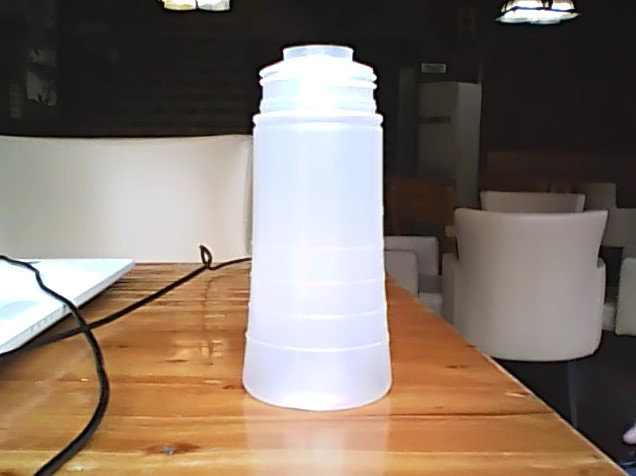Plastic: (239, 38, 400, 417)
